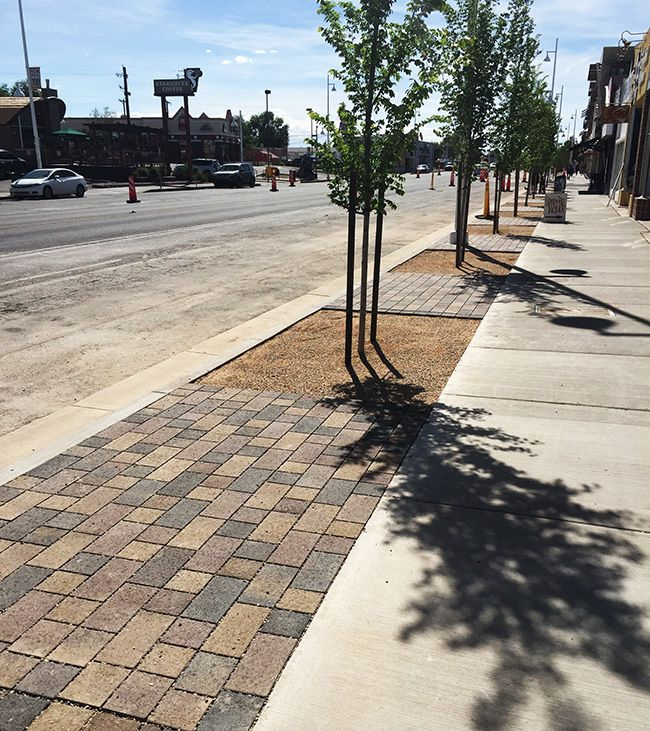tree: (301, 1, 444, 361), (433, 1, 510, 265)
